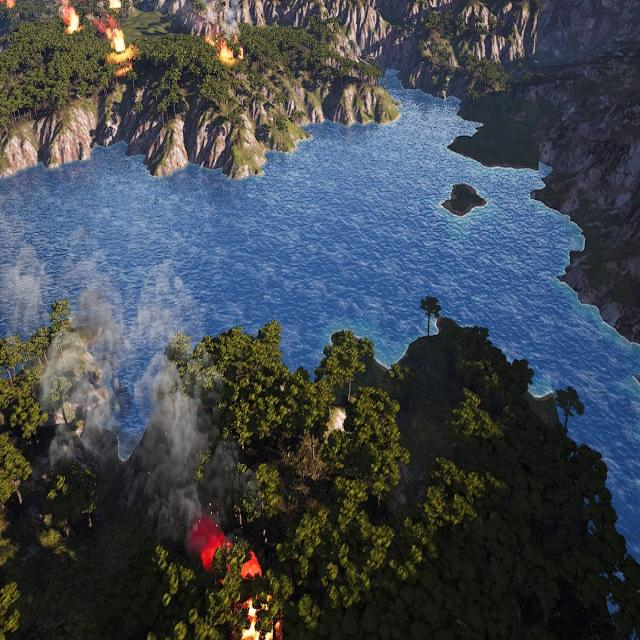fire: (239, 620, 281, 640), (241, 552, 262, 583), (110, 30, 126, 54), (68, 8, 80, 31), (218, 44, 232, 61), (108, 0, 120, 8), (3, 0, 15, 8)
smoke: (0, 240, 251, 545), (204, 0, 241, 37), (47, 0, 73, 17)
